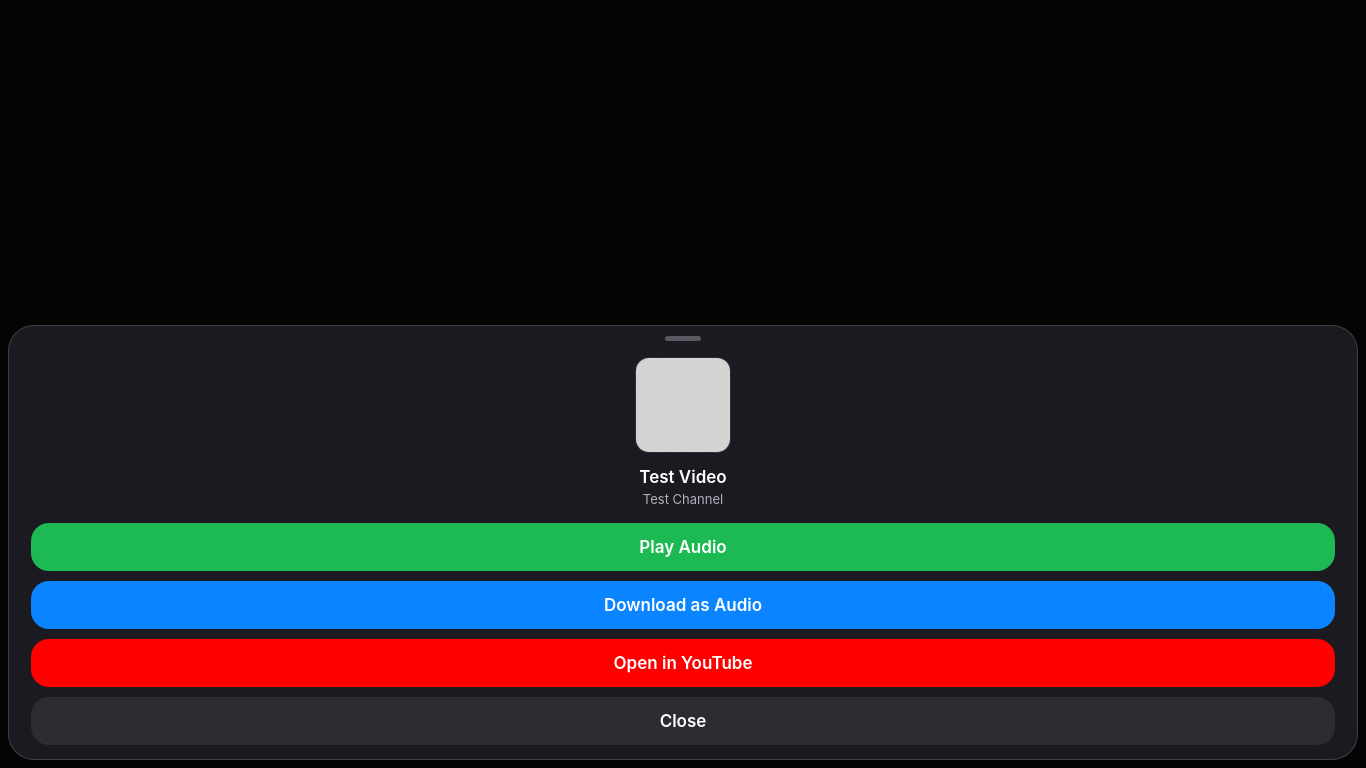
YouTubePreview › shows error message on download failure
Click the button "Download as Audio": [683, 605] box [31,581,1335,629]
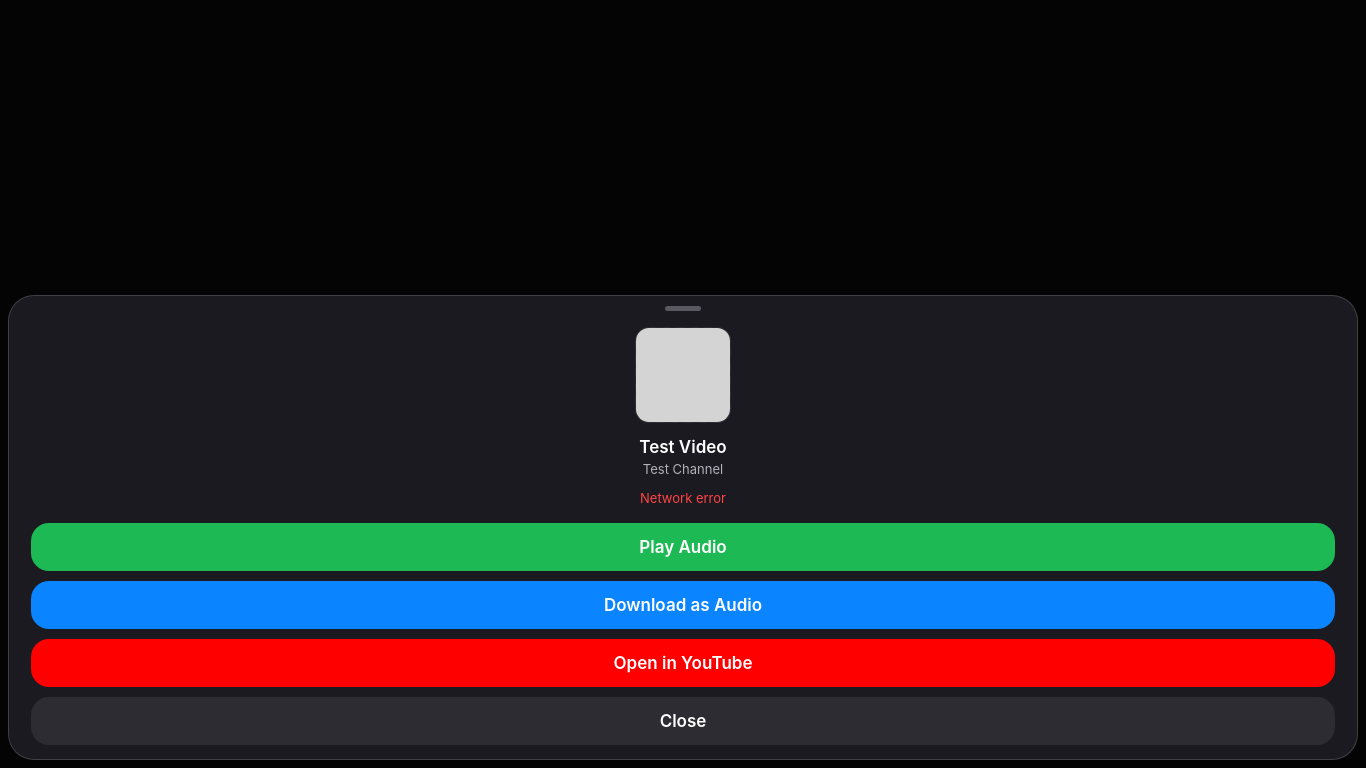
Result: the text "Network error" is shown at [640,490,726,506]
